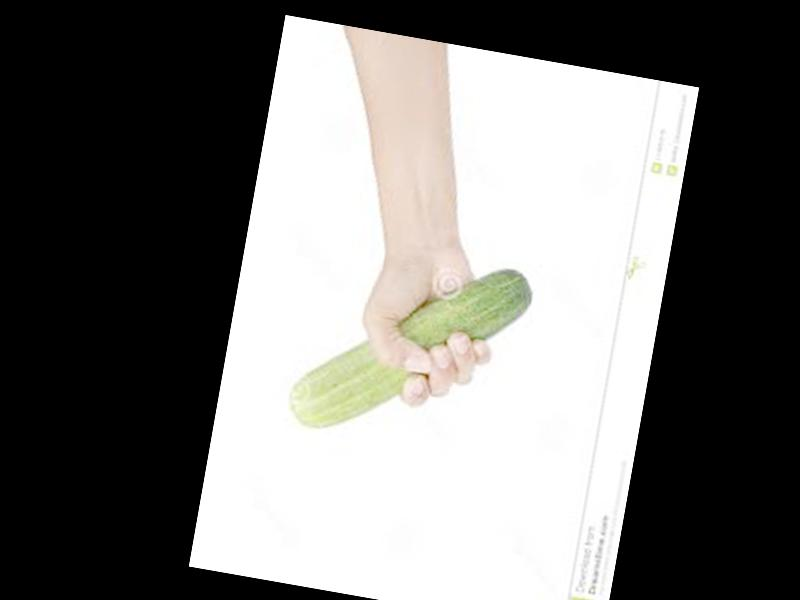Cucumber: (287, 231, 537, 460)
